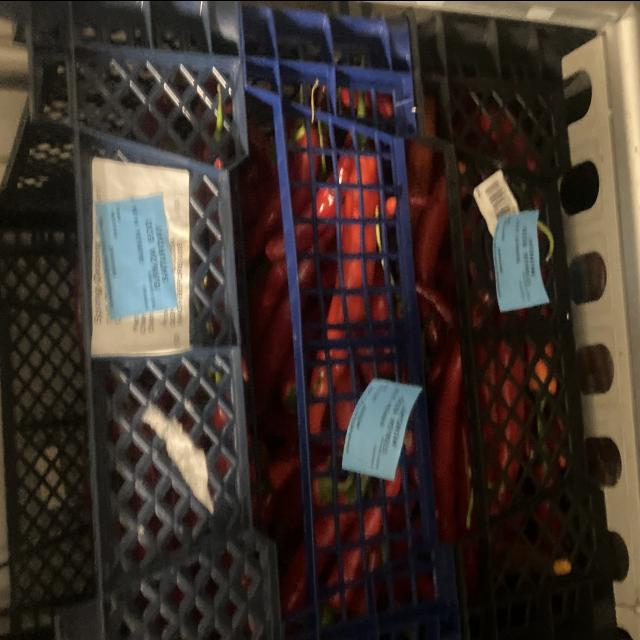product-labels: (94, 191, 178, 317), (336, 370, 422, 482), (487, 209, 551, 310)
